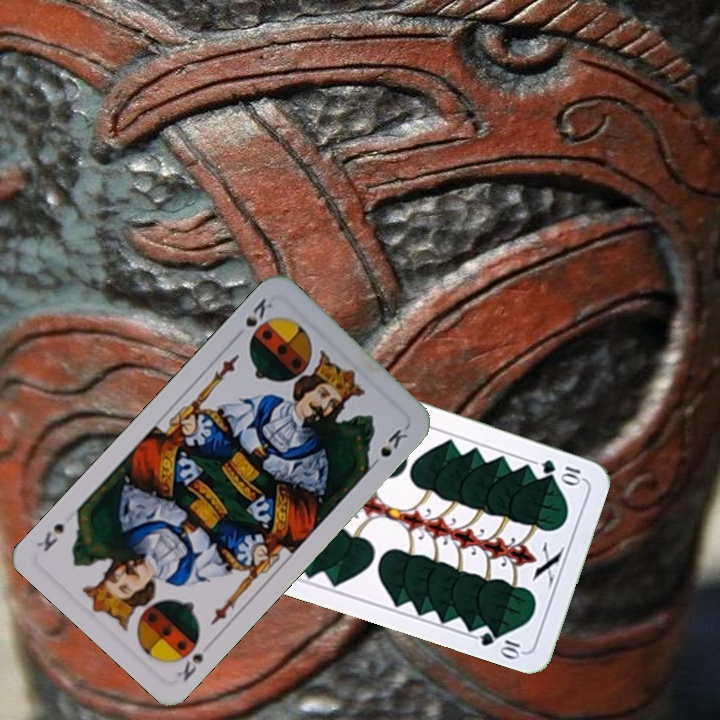G10: (537, 455, 585, 486)
SK: (241, 293, 276, 344), (172, 649, 207, 685)
